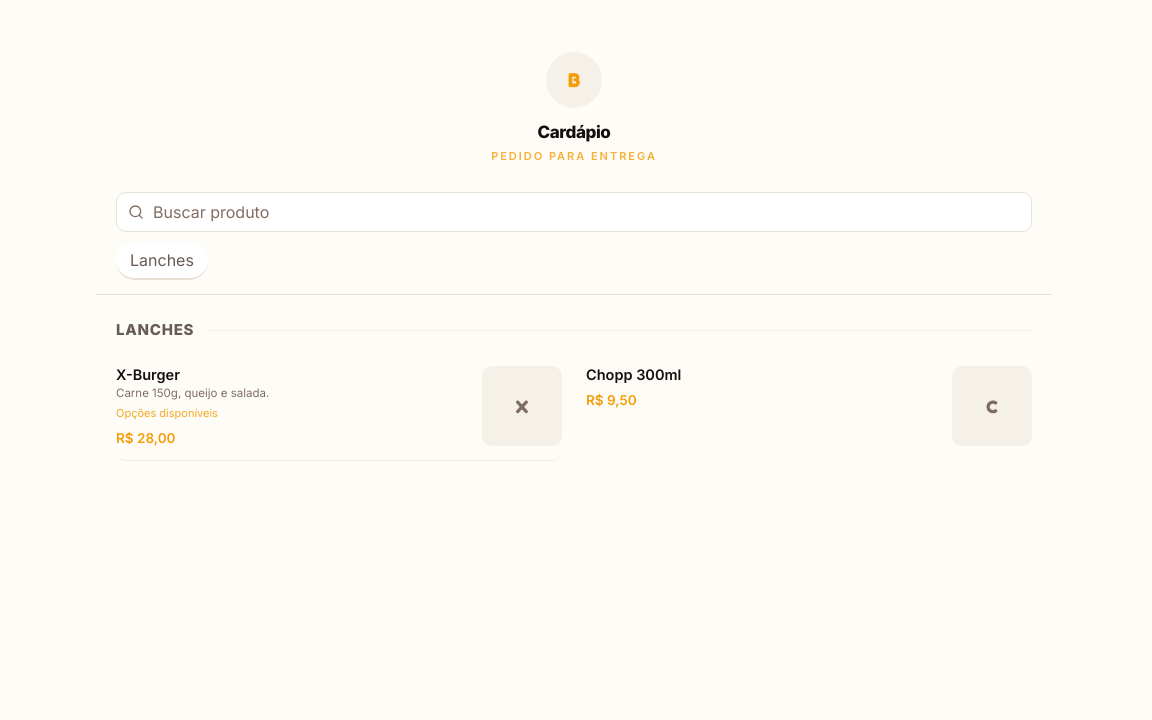
Test case: CustomerMenuPage (integração) › Produto sem variação também abre a ficha antes de adicionar
The image size is (1152, 720).
Click the button with aria-label "Ver Chopp 300ml" at x=634, y=374, box [586, 366, 940, 410]
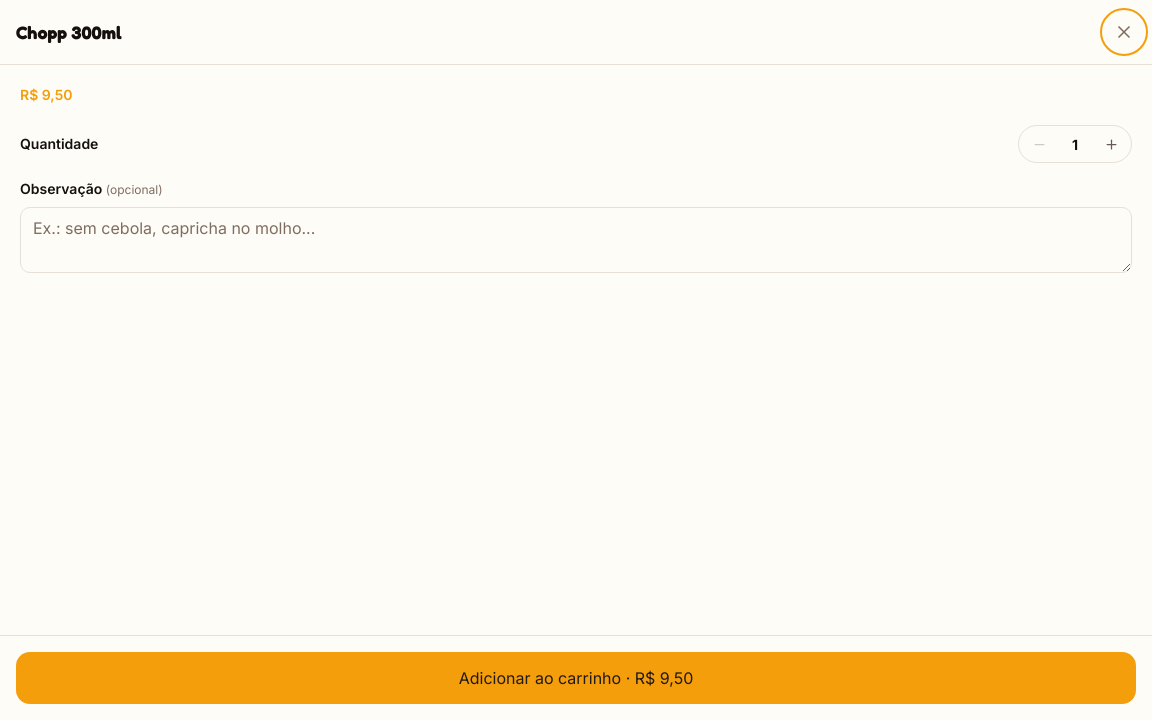
Expected: the dialog is shown
Expected: the button named "Aumentar quantidade de Chopp 300ml" is shown, [1097, 130, 1125, 158]
Click the text "Adicionar ao carrinho" at x=540, y=678, box [459, 668, 621, 688]
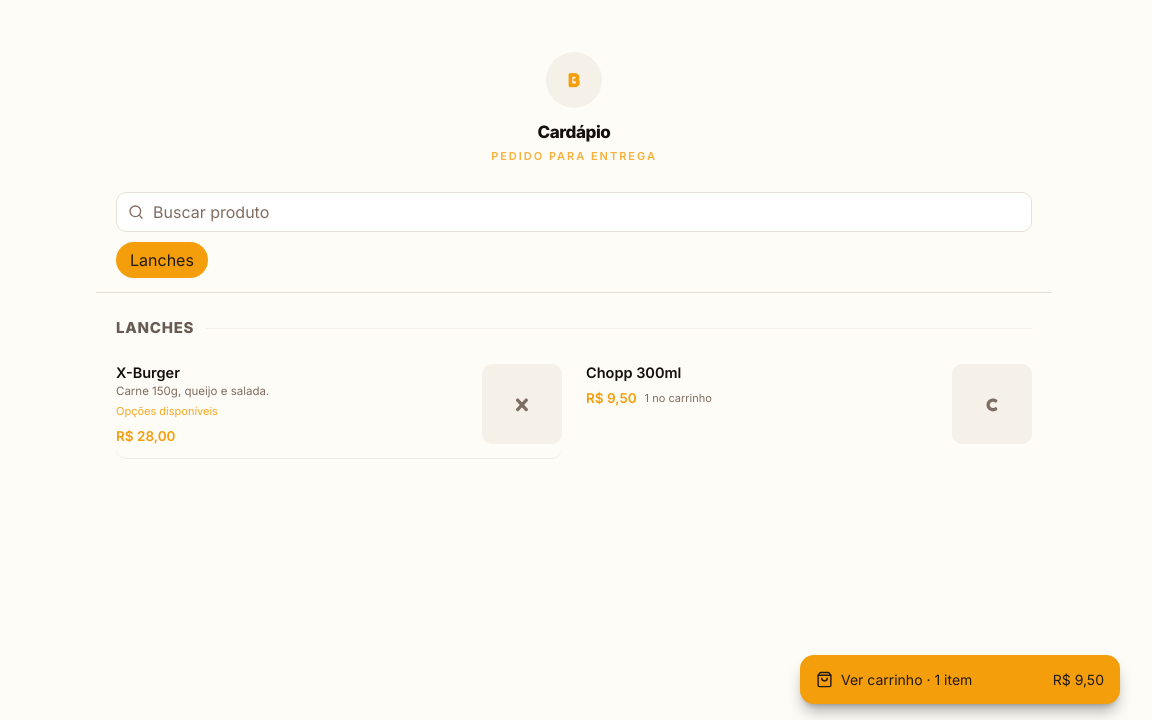
Expected: the text "Ver carrinho · 1 item" is shown
sem bloqueio: a linha entra no carrinho e a barra aparece
Click the text "Ver carrinho · 1 item" at x=894, y=680, box [816, 669, 972, 690]
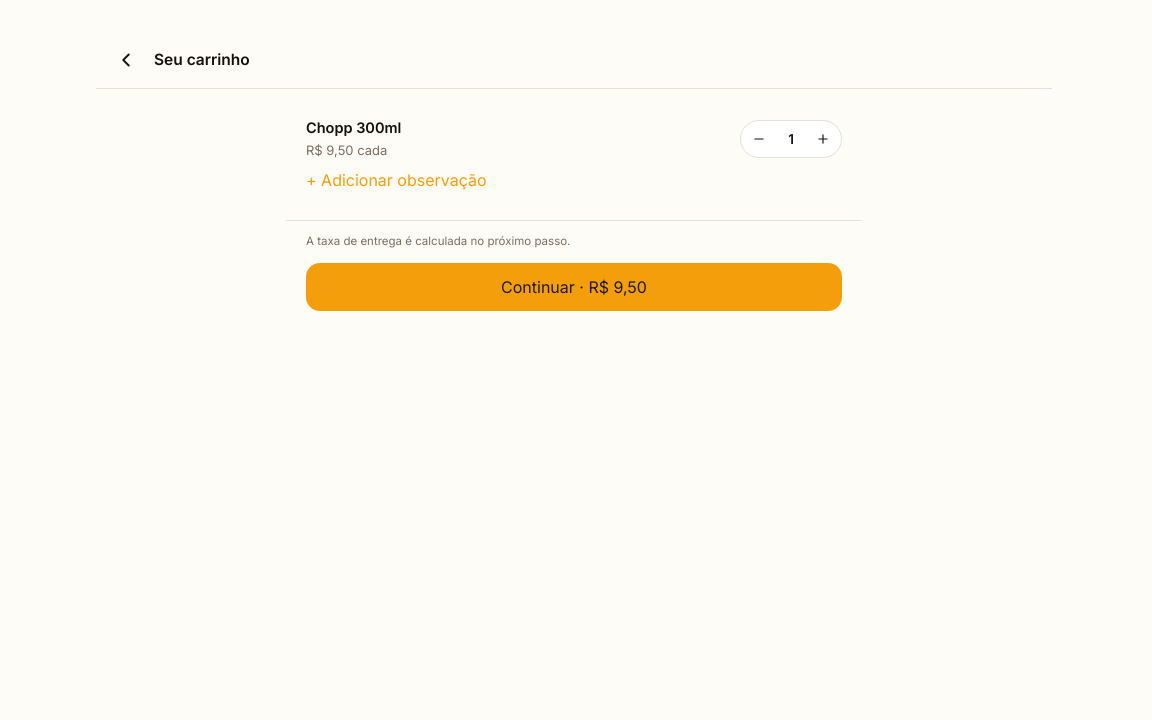
Expected: the text "Chopp 300ml" is shown, [306, 117, 401, 139]
Expected: the heading "Seu carrinho" is shown, [154, 48, 250, 72]
